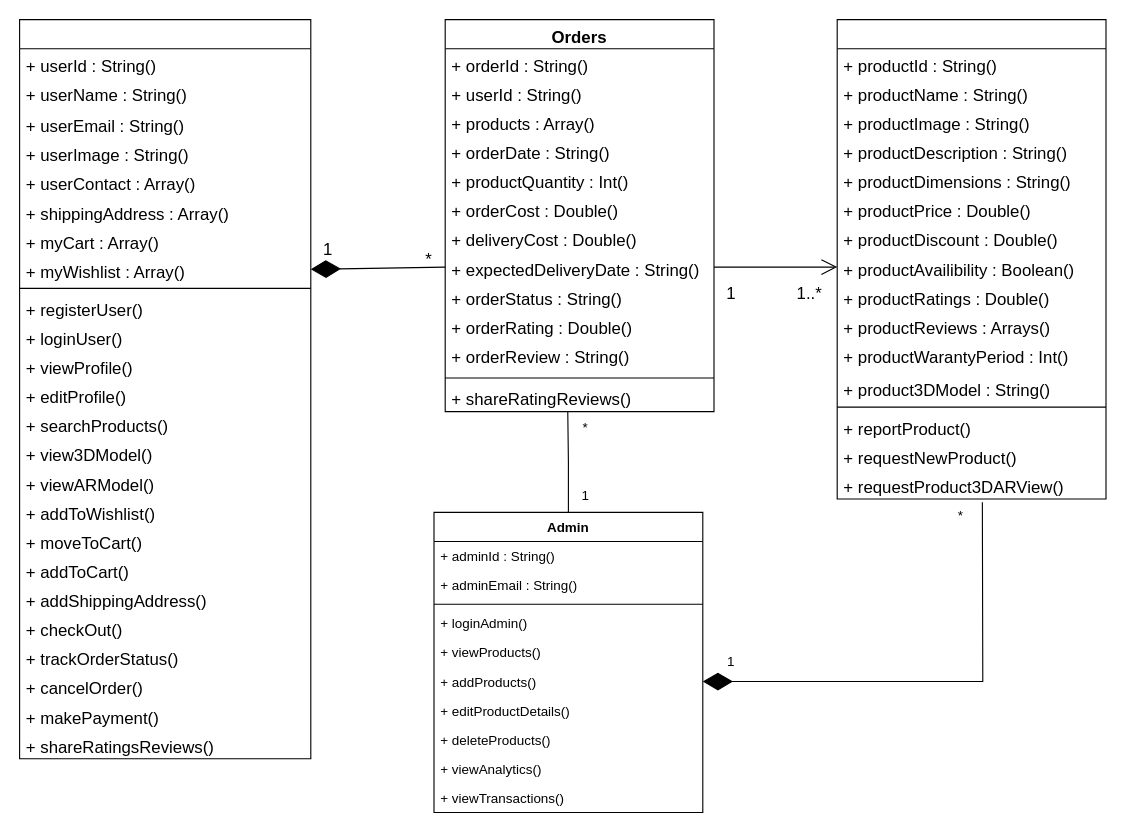
Image size: 1126x836. Some labels were removed from this diagram. Each missing label, with the box of its shape:
Products: (836, 18, 1106, 499)
Users: (18, 18, 311, 759)
